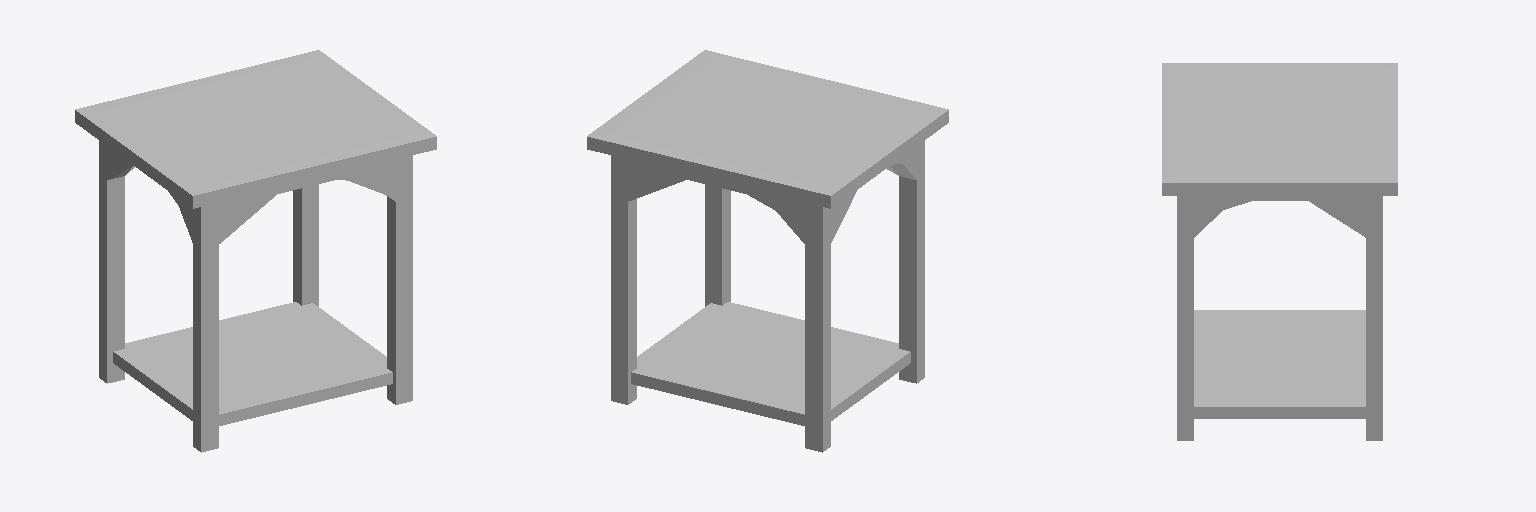
Rendered from NightStand.obj.
3 views of the same model, side by side, from view 1: azimuth 30°, elevation 25°; view 2: azimuth 150°, elevation 25°; view 3: azimuth 270°, elevation 25° (orthographic).
Parts seen in each view (by area): view 1: Cube.013, Cube.015; view 2: Cube.013, Cube.015; view 3: Cube.015, Cube.013.
Part boxes in pixels (x1,y1,x2,y2): Cube.013: (75, 50, 436, 452); Cube.015: (113, 70, 392, 425); Cube.013: (587, 50, 948, 452); Cube.015: (631, 70, 910, 425); Cube.015: (1194, 80, 1365, 418); Cube.013: (1162, 63, 1397, 440).
Size of the model in its own units: 1.4 by 1.46 by 1.17.